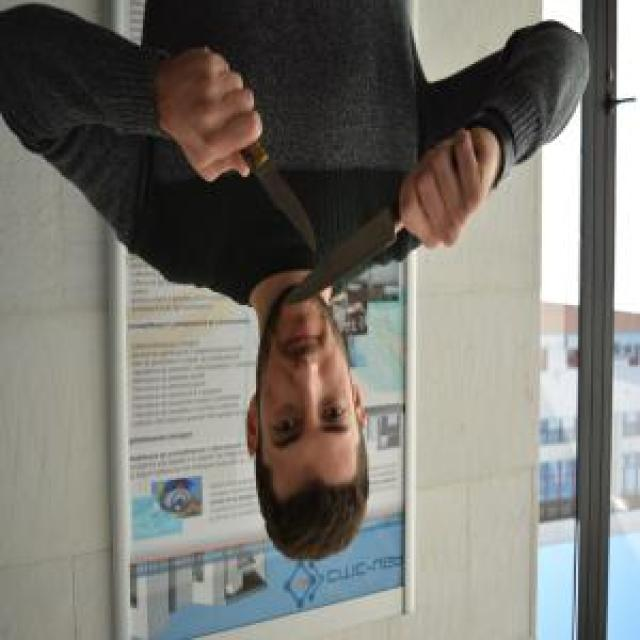knife: (279, 191, 406, 311), (232, 129, 317, 258)
